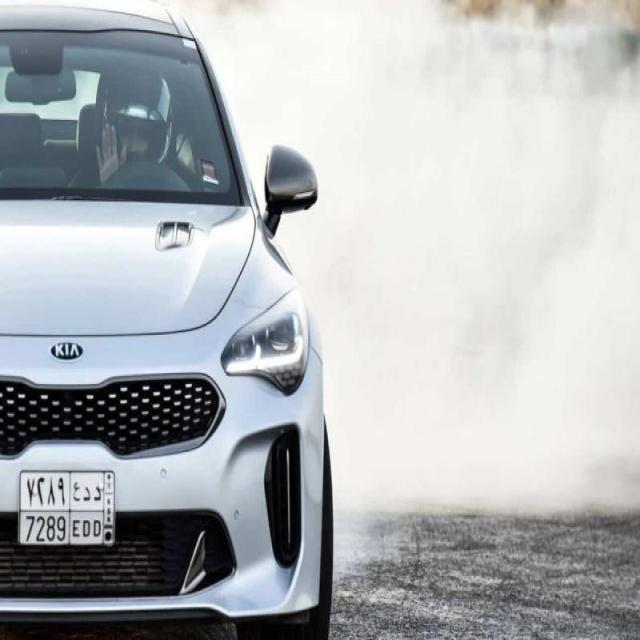license_plate: (15, 467, 117, 550)
